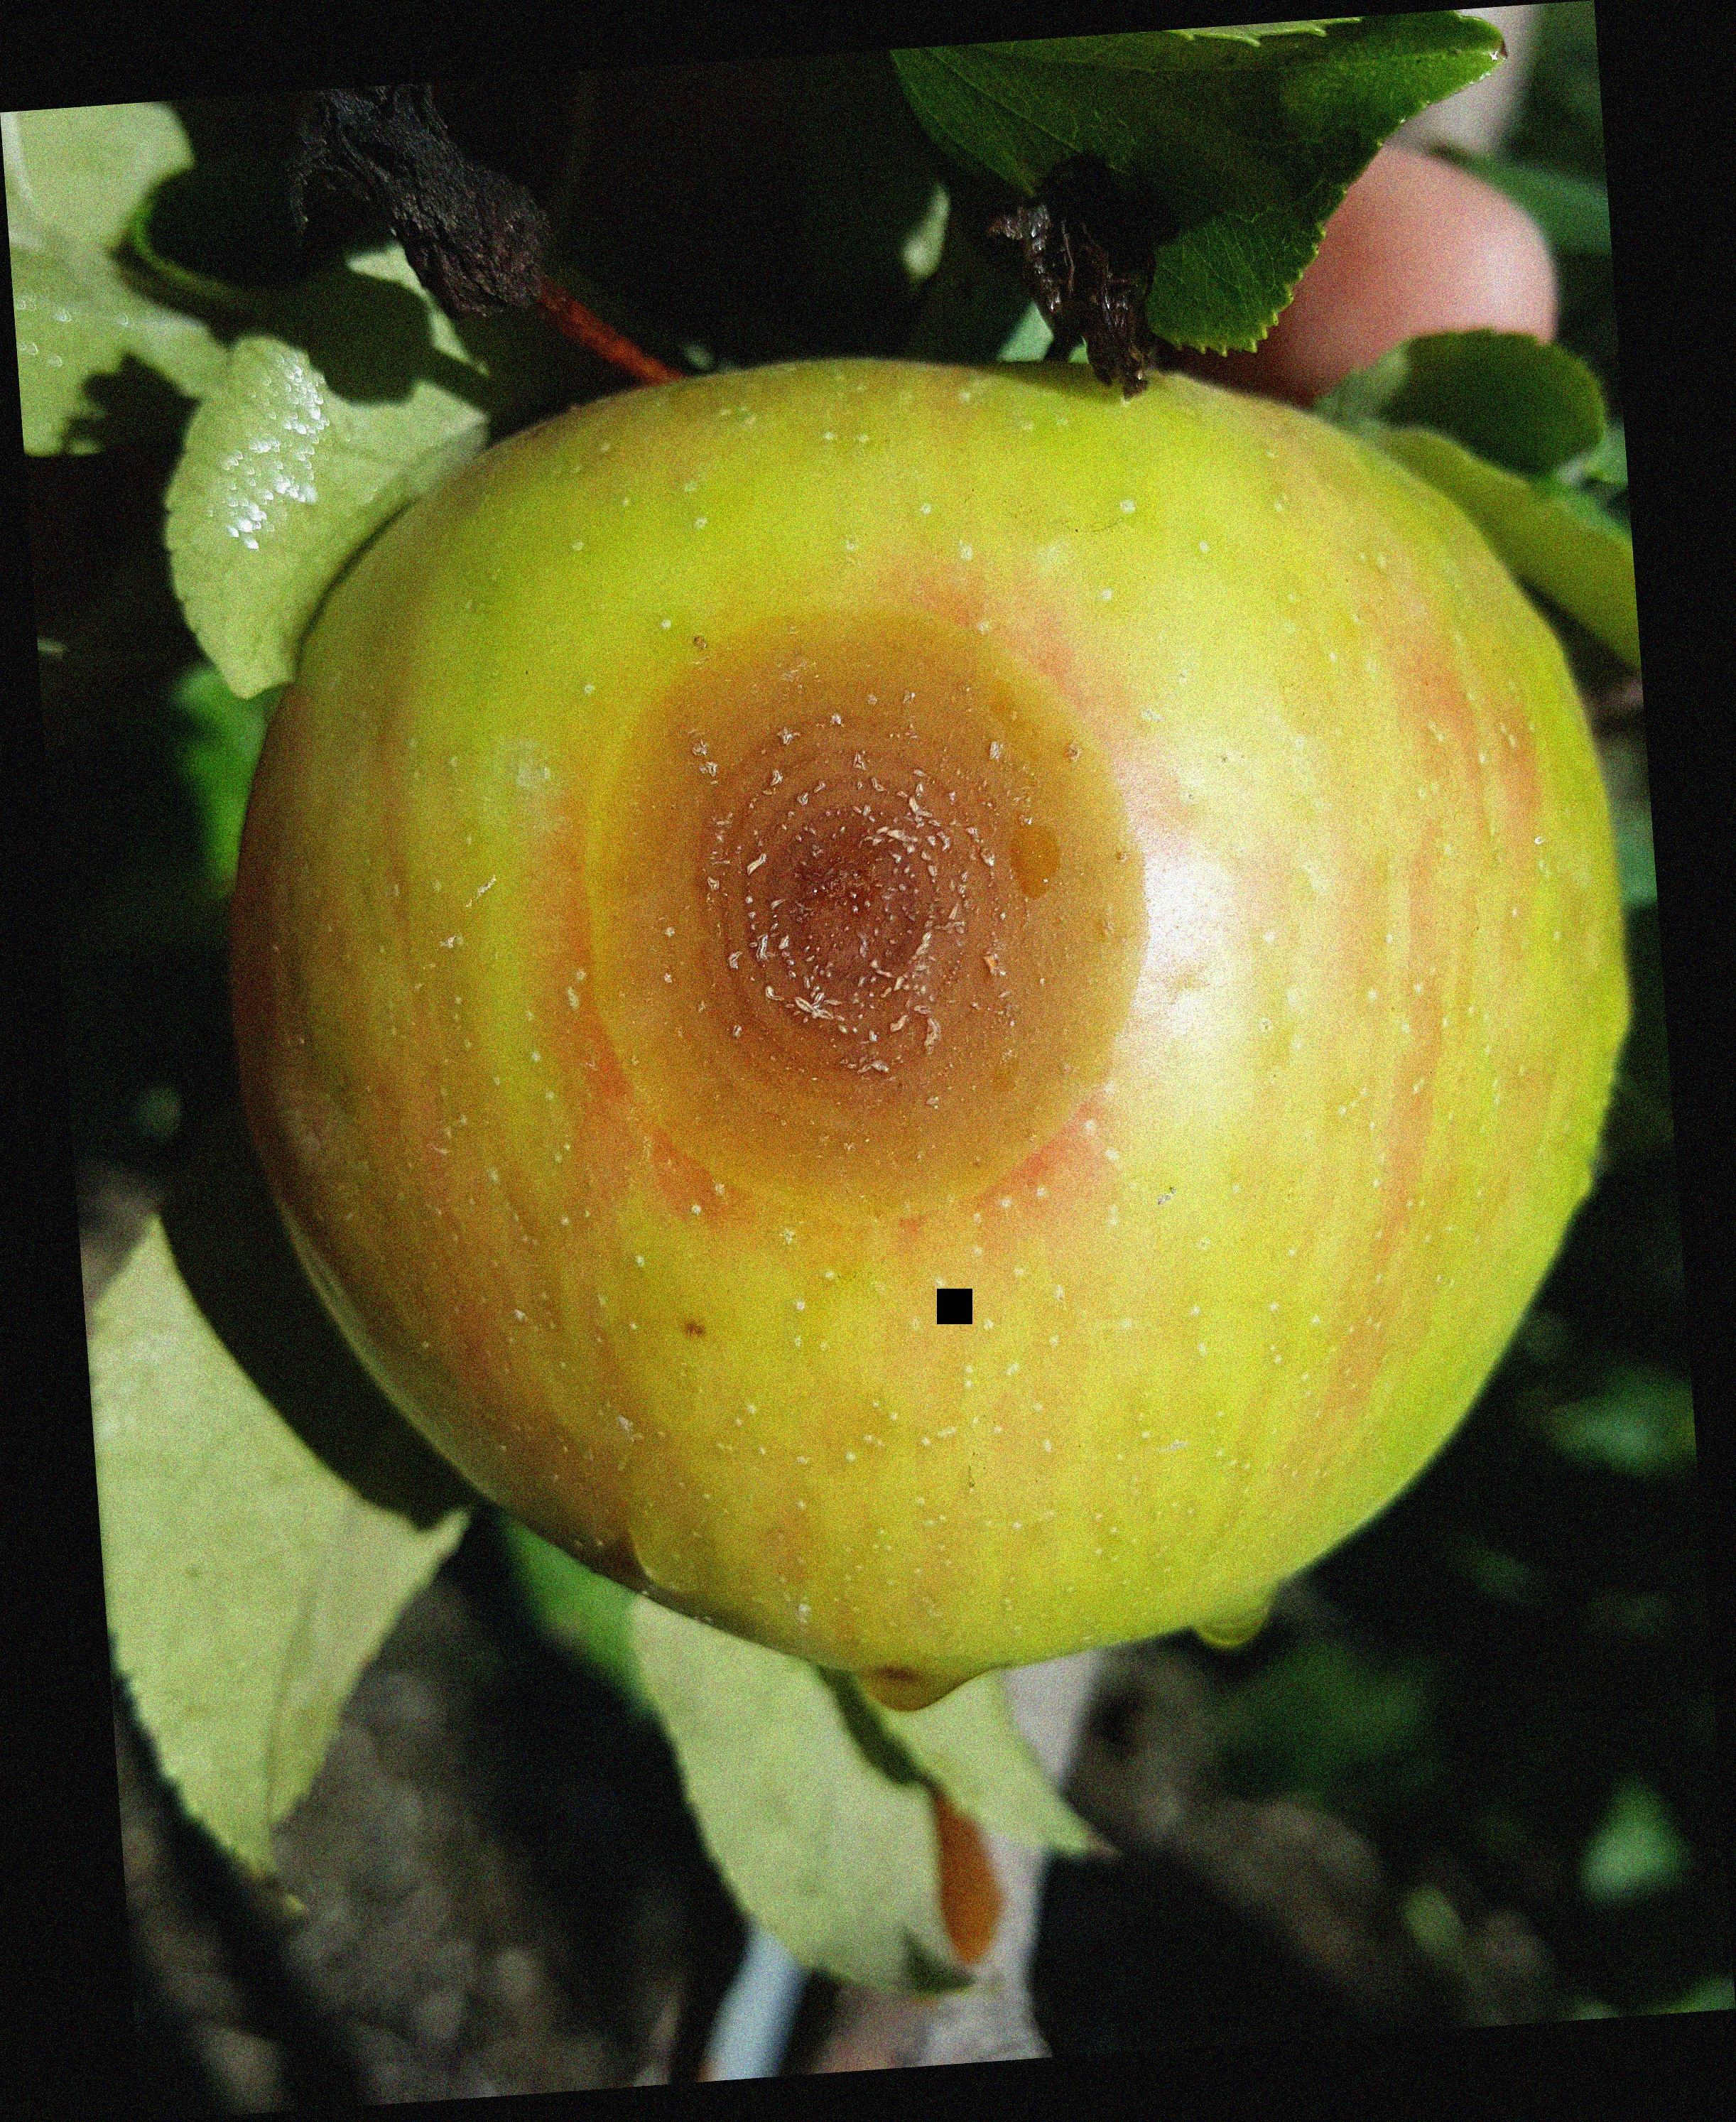rotten apple: (189, 337, 1650, 1667)
